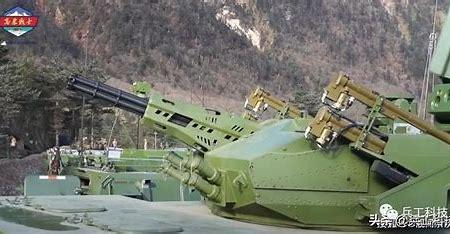MIL_SPG: (69, 74, 450, 229)
